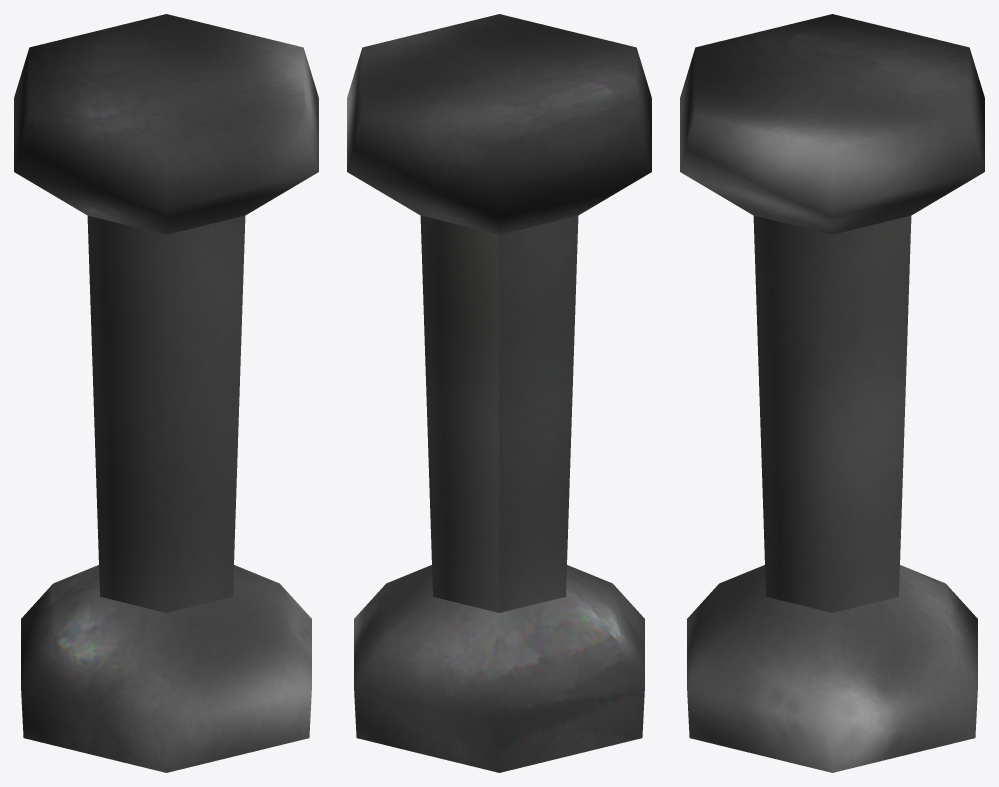
The model's file is HangingLight.fbx.
The picture shows the model from 3 angles, left to right: view 1: azimuth 30°, elevation 25°; view 2: azimuth 150°, elevation 25°; view 3: azimuth 270°, elevation 25°; orthographic projection.
Parts seen in each view (by area): view 1: Pole; view 2: Pole; view 3: Pole.
Part boxes in pixels (x1,y1,x2,y2): Pole: [14, 14, 318, 772]; Pole: [347, 14, 651, 772]; Pole: [680, 14, 984, 772].
Bounding box in the file's own units: 5.12 × 10.67 × 4.43.
Materials: 2 (2 with a texture image).
